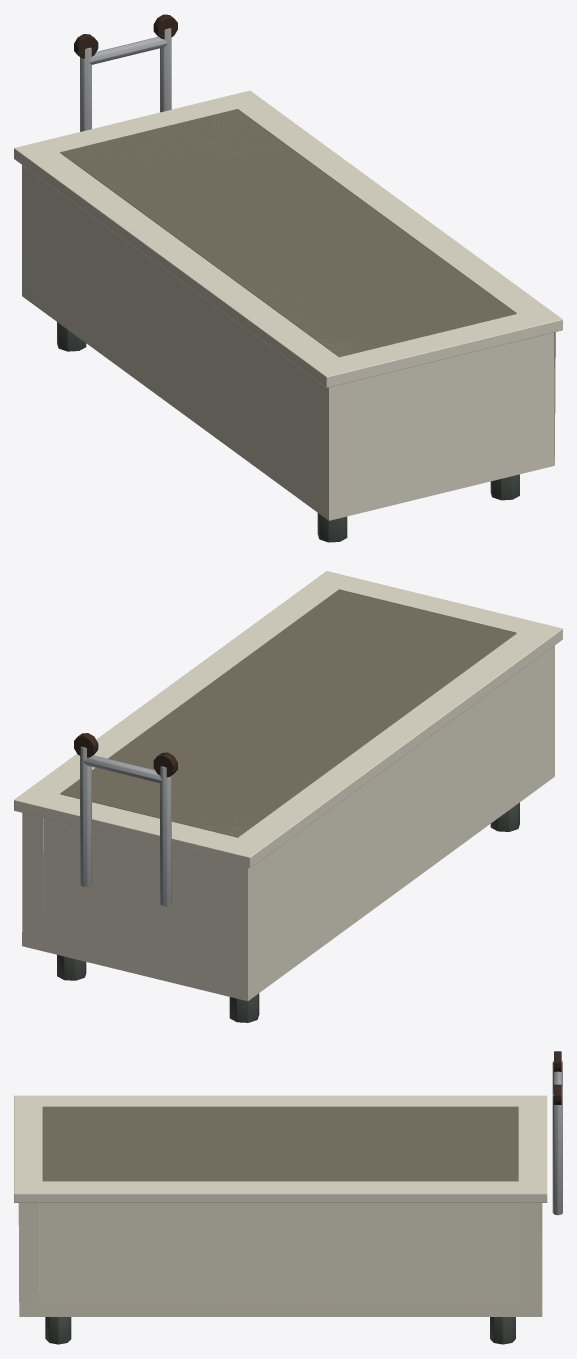
Rendered from PROP_Tub_Hydrotherapy.glb.
3 renders of one model, top to bottom at view 1: azimuth 30°, elevation 25°; view 2: azimuth 150°, elevation 25°; view 3: azimuth 270°, elevation 25°, orthographic. The views are drawn at different scales.
Visible parts, largest first — view 1: PROP_Tub_Hydrotherapy_Mesh; view 2: PROP_Tub_Hydrotherapy_Mesh; view 3: PROP_Tub_Hydrotherapy_Mesh.
Boxes of the visible parts, x1,y1,x2,y2 form: PROP_Tub_Hydrotherapy_Mesh: (14,14,562,542); PROP_Tub_Hydrotherapy_Mesh: (14,571,562,1022); PROP_Tub_Hydrotherapy_Mesh: (14,1051,562,1344).
Size of what is drawn, in the model's own units: 0.89 by 0.9896 by 2.1.
